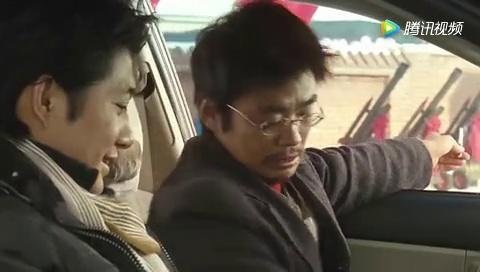smoke: (456, 126, 466, 159)
